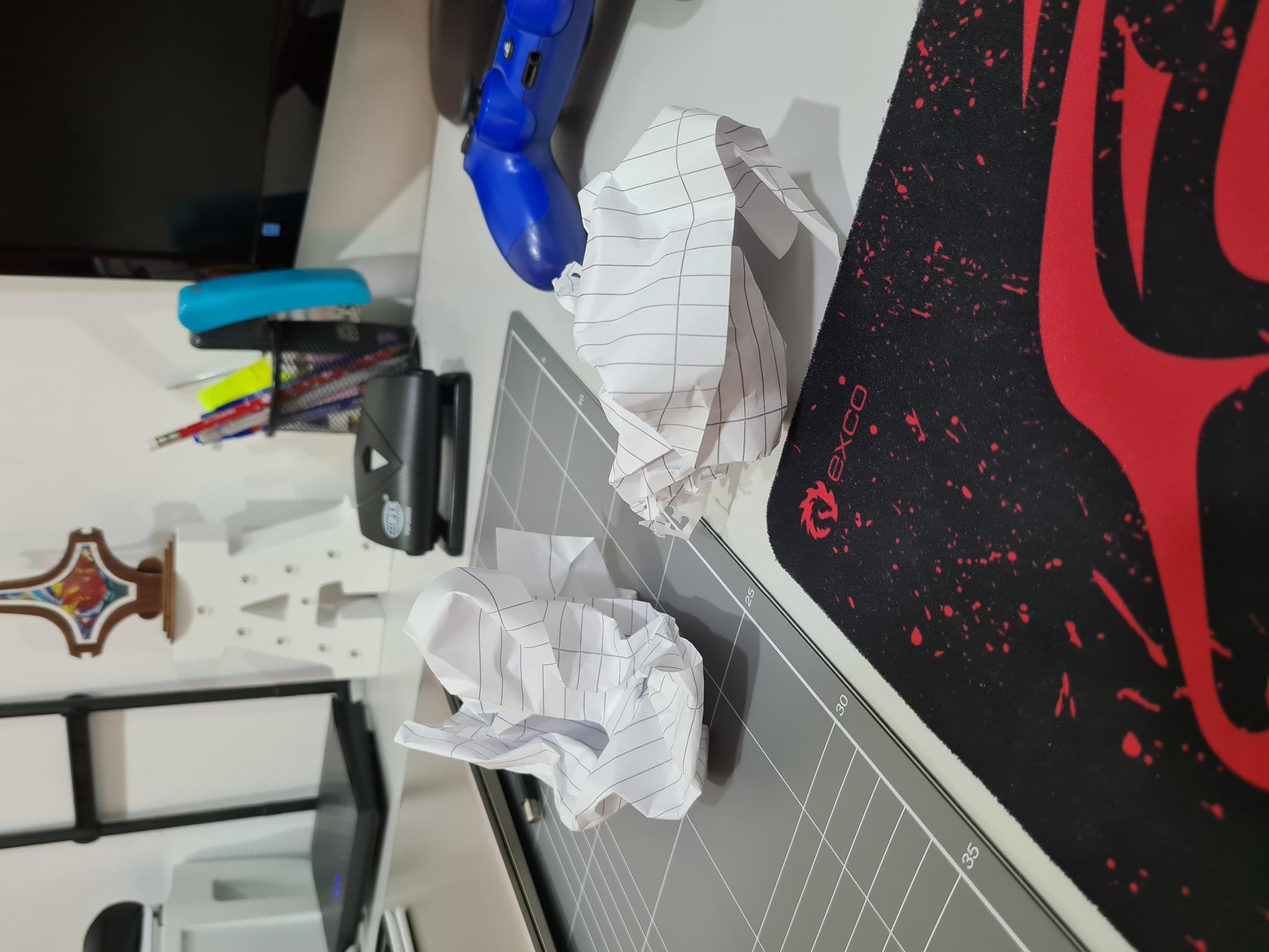Kertas: (414, 580, 831, 801), (136, 404, 395, 725)
